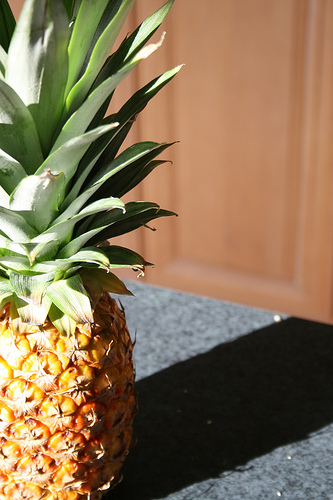pineapple: (1, 5, 179, 496)
